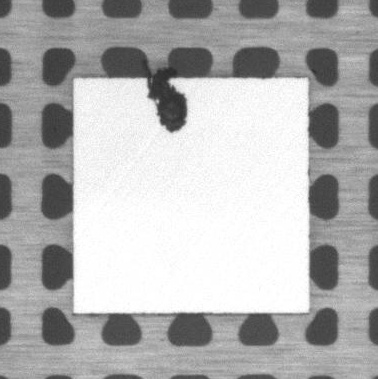DIE_INK: (143, 81, 189, 135)
